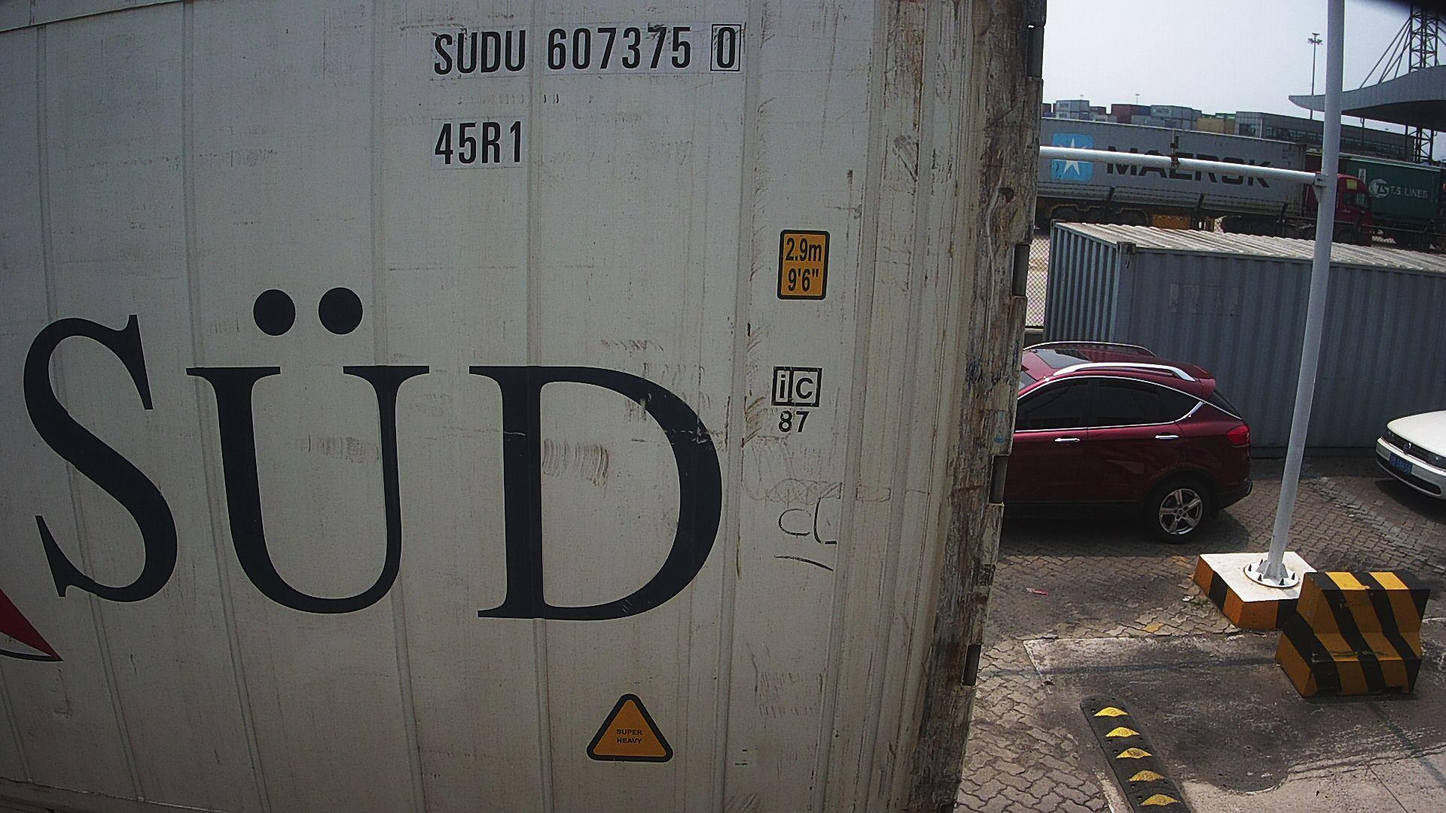container-numbers: (429, 20, 747, 81), (430, 117, 527, 172)
